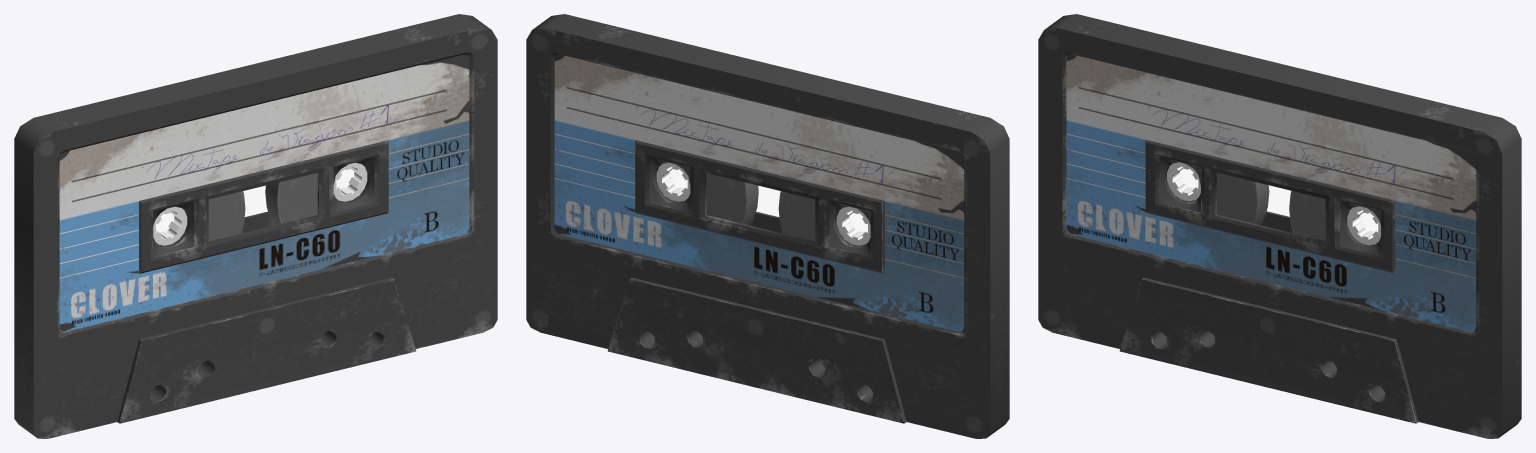
The model's file is cassette.fbx.
The picture shows the model from 3 angles, left to right: view 1: azimuth 30°, elevation 25°; view 2: azimuth 150°, elevation 25°; view 3: azimuth 330°, elevation 25°; orthographic projection.
Visible parts, largest first — view 1: Cube; view 2: Cube; view 3: Cube.
Part boxes in pixels (bbox=[...]): Cube: bbox=[14, 14, 497, 438]; Cube: bbox=[526, 14, 1009, 438]; Cube: bbox=[1038, 14, 1521, 438].
Bounding box in the file's own units: 10 × 6.3 × 0.9016.
Materials: 1 (1 with a texture image).
